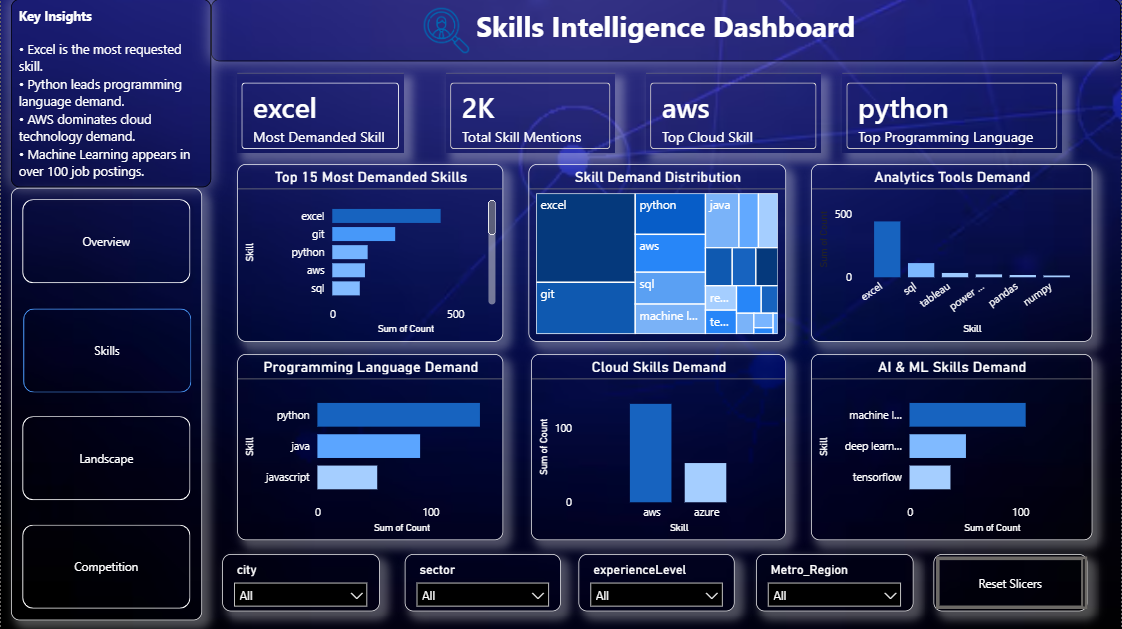

The page's visual inventory and layout, read from the dashboard file:
{"tool":"powerbi","page":{"name":"Skills","canvas":[1280,720],"ordinal":1},"visuals":[{"type":"textbox","box":[239.9,0,1040.1,71.4],"z":0},{"type":"pageNavigator","box":[11.4,215.7,218.6,494.3],"z":1000},{"type":"cardVisual","fields":{"Data":["LinkedIn_Jobs_Final.Top Skill"]},"box":[270.3,83.7,190.7,91.9],"z":2000},{"type":"cardVisual","fields":{"Data":["LinkedIn_Jobs_Final.Total Skill Hits"]},"box":[509.1,83.7,193.5,91.9],"z":3000},{"type":"cardVisual","fields":{"Data":["LinkedIn_Jobs_Final.Top Cloud Skill"]},"box":[736.9,83.7,200.3,91.9],"z":4000},{"type":"cardVisual","fields":{"Data":["LinkedIn_Jobs_Final.Top Programming Language"]},"box":[961.9,83.7,251.1,91.9],"z":5000},{"type":"clusteredBarChart","title":"Top 15 Most Demanded Skills","fields":{"Category":["skill_summary.Skill"],"Y":["Sum(skill_summary.Count)"]},"box":[270,188.6,304.3,202.9],"z":6000},{"type":"treemap","title":"Skill Demand Distribution","fields":{"Group":["skill_summary.Skill"],"Values":["Sum(skill_summary.Count)"]},"box":[602.9,188.6,294.3,202.9],"z":7000},{"type":"clusteredBarChart","title":"Programming Language Demand","fields":{"Category":["skill_summary.Skill"],"Y":["Sum(skill_summary.Count)"]},"box":[270,405.7,304.3,212.9],"z":8000},{"type":"clusteredColumnChart","title":"Analytics Tools Demand","fields":{"Category":["skill_summary.Skill"],"Y":["Sum(skill_summary.Count)"]},"box":[925.7,188.6,321.4,202.9],"z":9000},{"type":"clusteredColumnChart","title":"Cloud Skills Demand","fields":{"Category":["skill_summary.Skill"],"Y":["Sum(skill_summary.Count)"]},"box":[605.7,405.7,291.4,212.9],"z":10000},{"type":"clusteredBarChart","title":"AI & ML Skills Demand","fields":{"Y":["Sum(skill_summary.Count)"],"Category":["skill_summary.Skill"]},"box":[925.7,405.7,321.4,212.9],"z":11000},{"type":"slicer","fields":{"Values":["LinkedIn_Jobs_Final.city"]},"box":[252.5,634,179.8,65.9],"z":12000},{"type":"slicer","fields":{"Values":["LinkedIn_Jobs_Final.sector"]},"box":[461.1,634,178.4,65.9],"z":13000},{"type":"slicer","fields":{"Values":["LinkedIn_Jobs_Final.experienceLevel"]},"box":[660,634,178.4,65.9],"z":14000},{"type":"slicer","fields":{"Values":["LinkedIn_Jobs_Final.Metro_Region"]},"box":[863.1,634,179.8,65.9],"z":15000},{"type":"actionButton","box":[1066.2,634,175.6,65.9],"z":16000},{"type":"textbox","box":[11,0,229.2,215.4],"z":17000},{"type":"image","box":[474.8,9.6,70,52.1],"z":18000},{"type":"actionButton","box":[1068.6,637.1,172.9,60],"z":19000}]}

Visuals, with their boxes in screenshot pixels (x1, y1, x2, y2), scaled from the page's 1280x720 canvas onto the 1122x629 screenshot:
textbox: (210,0,1121,62)
pageNavigator: (10,188,202,620)
cardVisual - LinkedIn_Jobs_Final.Top Skill: (237,73,404,153)
cardVisual - LinkedIn_Jobs_Final.Total Skill Hits: (446,73,616,153)
cardVisual - LinkedIn_Jobs_Final.Top Cloud Skill: (646,73,822,153)
cardVisual - LinkedIn_Jobs_Final.Top Programming Language: (843,73,1063,153)
"Top 15 Most Demanded Skills" clusteredBarChart: (237,165,503,342)
"Skill Demand Distribution" treemap: (528,165,786,342)
"Programming Language Demand" clusteredBarChart: (237,354,503,540)
"Analytics Tools Demand" clusteredColumnChart: (811,165,1093,342)
"Cloud Skills Demand" clusteredColumnChart: (531,354,786,540)
"AI & ML Skills Demand" clusteredBarChart: (811,354,1093,540)
slicer - LinkedIn_Jobs_Final.city: (221,554,379,611)
slicer - LinkedIn_Jobs_Final.sector: (404,554,561,611)
slicer - LinkedIn_Jobs_Final.experienceLevel: (579,554,735,611)
slicer - LinkedIn_Jobs_Final.Metro_Region: (757,554,914,611)
actionButton: (935,554,1089,611)
textbox: (10,0,211,188)
image: (416,8,478,54)
actionButton: (937,557,1088,609)
